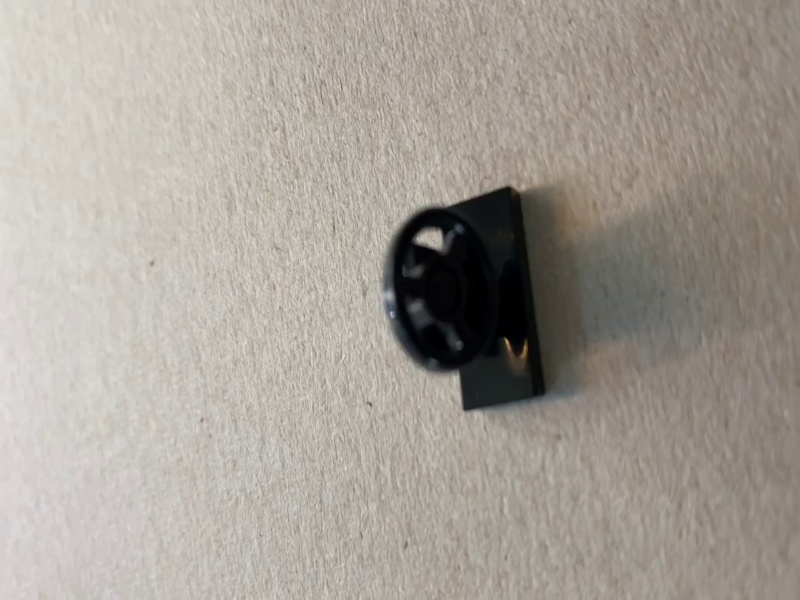steering wheel: (383, 184, 549, 413)
